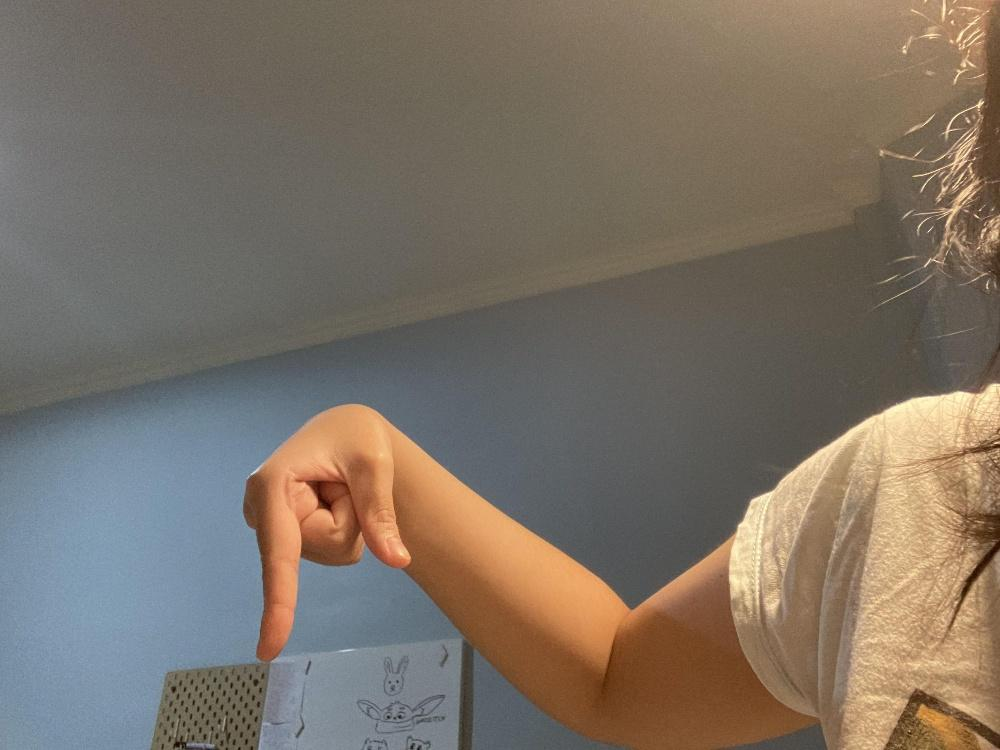q: (242, 402, 410, 661)
